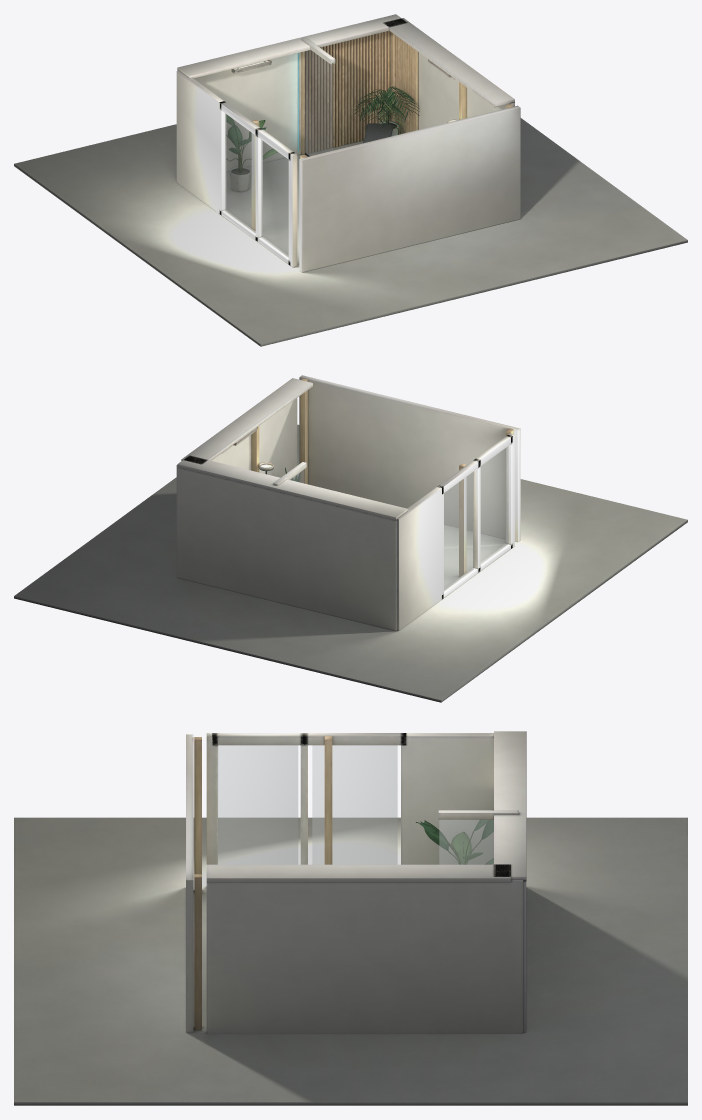
Rendered from treatment-room.glb.
3 renders of one model, top to bottom at view 1: azimuth 30°, elevation 25°; view 2: azimuth 150°, elevation 25°; view 3: azimuth 270°, elevation 25°, orthographic. The views are drawn at different scales.
Visible parts, largest first — view 1: Room_Floor, Room_FrontWall, Room_BackWall, Room_LeftWall, Room_WindowGlass, Room_RightWall, Room_CeilingRear, Room_CeilingRight, Room_Glass, Room_PlantPalm, Room_PlantBroadleaf; view 2: Room_Floor, Room_BackWall, Room_FrontWall, Room_LeftWall, Room_WindowGlass, Room_RightWall, Room_CeilingRear, Room_CeilingRight; view 3: Room_Floor, Room_RightWall, Room_WindowGlass, Room_LeftWall, Room_CeilingRight, Room_CeilingRear, Room_FrontWall, Room_Glass, Room_PlantBroadleaf, Room_BackWall.
Part boxes in pixels (x1,y1,x2,y2): Room_Floor: (14, 118, 687, 346); Room_FrontWall: (299, 104, 520, 272); Room_BackWall: (193, 30, 395, 171); Room_LeftWall: (176, 70, 297, 267); Room_WindowGlass: (225, 113, 288, 257); Room_RightWall: (395, 35, 514, 134); Room_CeilingRear: (177, 14, 407, 78); Room_CeilingRight: (384, 18, 514, 107); Room_Glass: (305, 50, 332, 155); Room_PlantPalm: (355, 86, 419, 136); Room_PlantBroadleaf: (226, 114, 277, 191); Room_Floor: (14, 424, 687, 702); Room_BackWall: (177, 467, 397, 631); Room_FrontWall: (299, 375, 520, 542); Room_LeftWall: (397, 433, 514, 630); Room_WindowGlass: (444, 446, 508, 590); Room_RightWall: (176, 398, 297, 576); Room_CeilingRear: (177, 455, 407, 520); Room_CeilingRight: (181, 378, 312, 463); Room_Floor: (14, 817, 687, 1105); Room_RightWall: (206, 880, 523, 1033); Room_WindowGlass: (218, 745, 397, 864); Room_LeftWall: (206, 733, 493, 864); Room_CeilingRight: (206, 864, 510, 882); Room_CeilingRear: (438, 731, 526, 881); Room_FrontWall: (186, 734, 201, 1032); Room_Glass: (439, 820, 493, 864); Room_PlantBroadleaf: (416, 809, 493, 864); Room_BackWall: (523, 880, 526, 1032).
Size of the model in its own units: 12 by 3.17 by 12.
3 materials, 2 textured.
